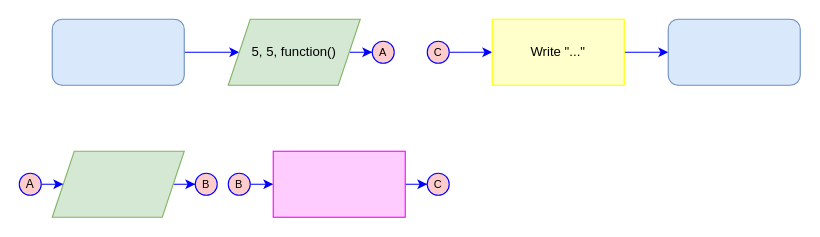
The diagram is 820 pixels wide and 237 high, and some of its shapes have lost their labels. The shapes that lost their labels are listed below. From the top down, each one's centre as x and y in pixels, then its label:
At (117,51): "Start".
At (733,51): "End".
At (117,183): "x = 5, y = 5 function()".
At (338,183): "x+y".
